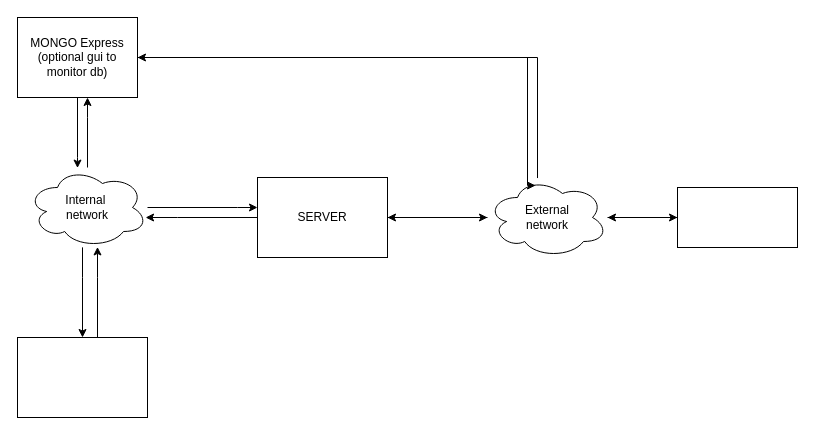
Some shapes in this 815 by 435 pixel diagram are drawn without their labels. Each missing label, with the centre of its shape:
INTERNET: the point at 737,217
MONGO: the point at 82,377
